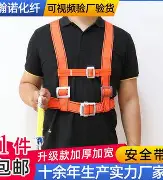safety belt: (42, 20, 121, 120)
